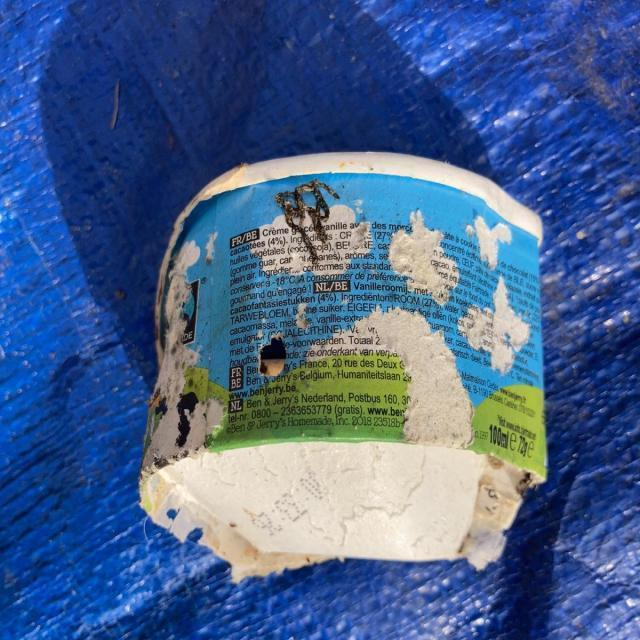Paper: (135, 148, 550, 590)
